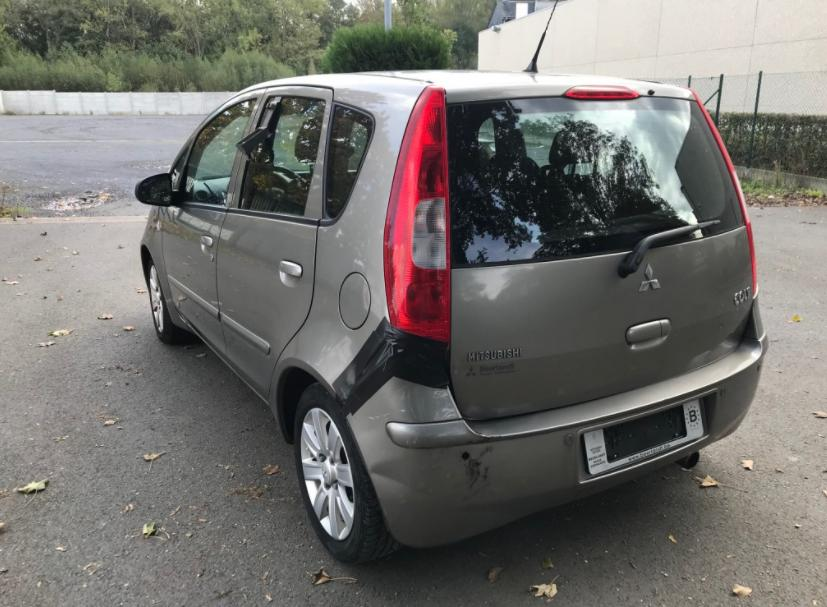Back-bumper: (346, 295, 766, 547)
Back-door: (217, 87, 335, 398)
Back-wheel: (294, 384, 402, 563)
Back-window: (239, 95, 325, 216), (326, 105, 373, 217)
Back-windshield: (446, 96, 744, 270)
Fender: (141, 206, 179, 326)
Front-door: (162, 91, 265, 356)
Front-wheel: (149, 260, 197, 345)
Front-window: (171, 99, 257, 206)
Mirror: (137, 173, 173, 206)
Quarter-panel: (269, 217, 389, 442)
Roof: (352, 70, 696, 104)
Tail-light: (382, 86, 452, 342), (691, 90, 757, 298)
Trunk: (451, 229, 753, 421)
